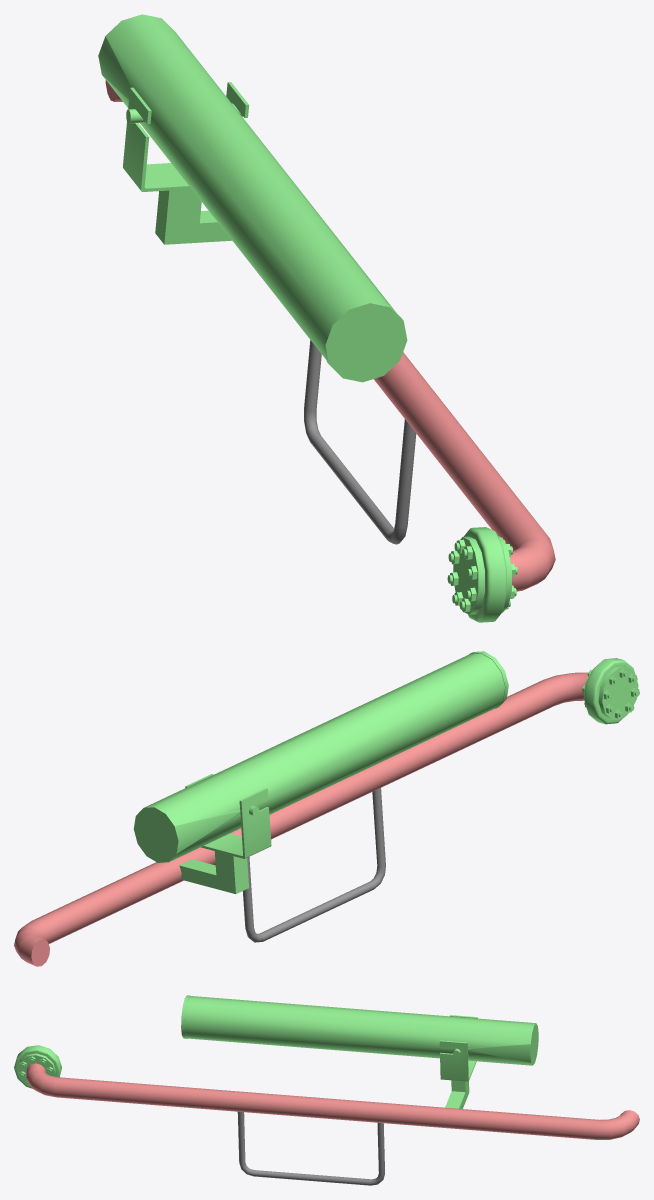
Rendered from SM_SUG_All_Left_02_1.gltf.
3 views of the same model, one above another, from view 1: azimuth 30°, elevation 25°; view 2: azimuth 150°, elevation 25°; view 3: azimuth 270°, elevation 25° (orthographic). The views are drawn at different scales.
Visible parts, largest first — view 1: SM_SUG_All_Left_02_1; view 2: SM_SUG_All_Left_02_1; view 3: SM_SUG_All_Left_02_1.
Part boxes in pixels (<box>): SM_SUG_All_Left_02_1: <box>98,14,555,622</box>; SM_SUG_All_Left_02_1: <box>14,651,639,966</box>; SM_SUG_All_Left_02_1: <box>14,995,639,1185</box>.
Size of the model in its own units: 0.3753 by 0.3735 by 1.34.
